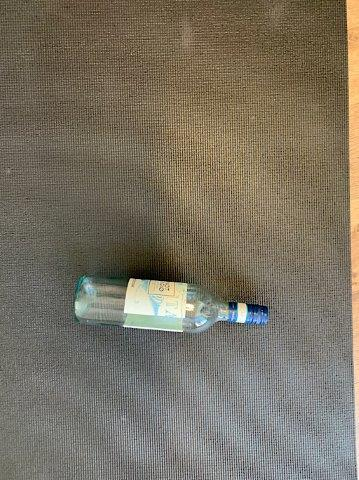botolkaca: (75, 275, 270, 333)
